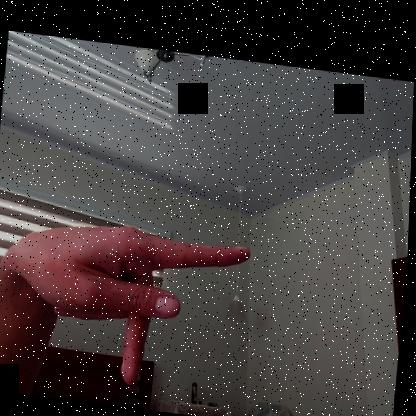P: (1, 207, 256, 398)
